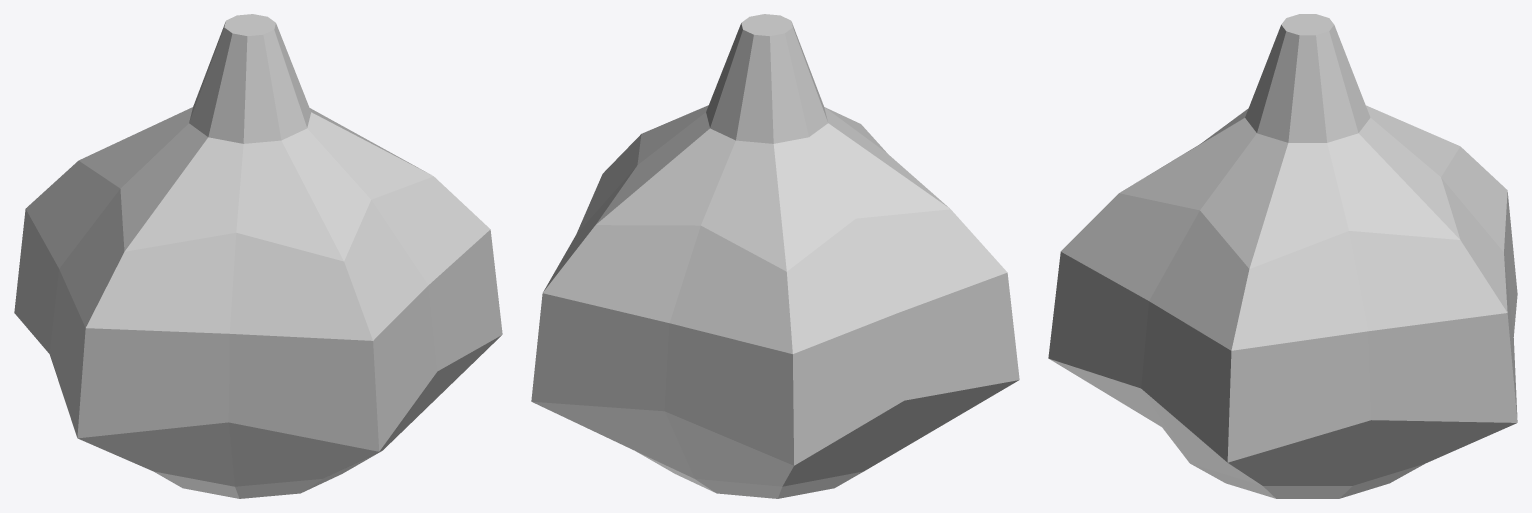
The model's file is garlic01.obj.
3 renders of one model, left to right at view 1: azimuth 30°, elevation 25°; view 2: azimuth 150°, elevation 25°; view 3: azimuth 270°, elevation 25°, orthographic.
Visible parts, largest first — view 1: Cylinder.001_Cylinder.002; view 2: Cylinder.001_Cylinder.002; view 3: Cylinder.001_Cylinder.002.
Boxes of the visible parts, x1,y1,x2,y2 form: Cylinder.001_Cylinder.002: (14,14,502,498); Cylinder.001_Cylinder.002: (531,14,1019,498); Cylinder.001_Cylinder.002: (1048,14,1517,498).
Size of the model in its own units: 0.0321 by 0.0312 by 0.0306.
1 material, 1 textured.
